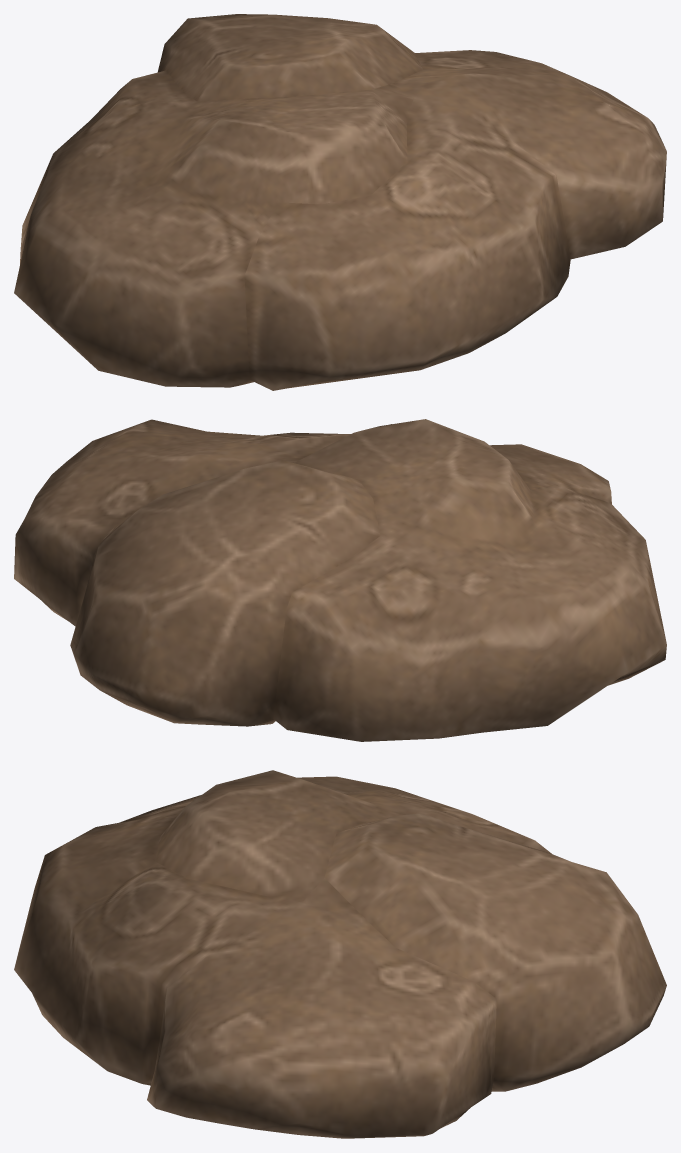
The model's file is sb_obj_nature006_Stone01f.fbx.
3 renders of one model, top to bottom at view 1: azimuth 30°, elevation 25°; view 2: azimuth 150°, elevation 25°; view 3: azimuth 270°, elevation 25°, orthographic. The views are drawn at different scales.
Parts seen in each view (by area): view 1: sb_obj_nature006_Stone01f; view 2: sb_obj_nature006_Stone01f; view 3: sb_obj_nature006_Stone01f.
Boxes of the visible parts, bbox=[...] form: sb_obj_nature006_Stone01f: bbox=[14, 14, 666, 390]; sb_obj_nature006_Stone01f: bbox=[14, 419, 666, 741]; sb_obj_nature006_Stone01f: bbox=[14, 770, 666, 1138].
Bounding box in the file's own units: 0.8885 × 0.293 × 0.8052.
